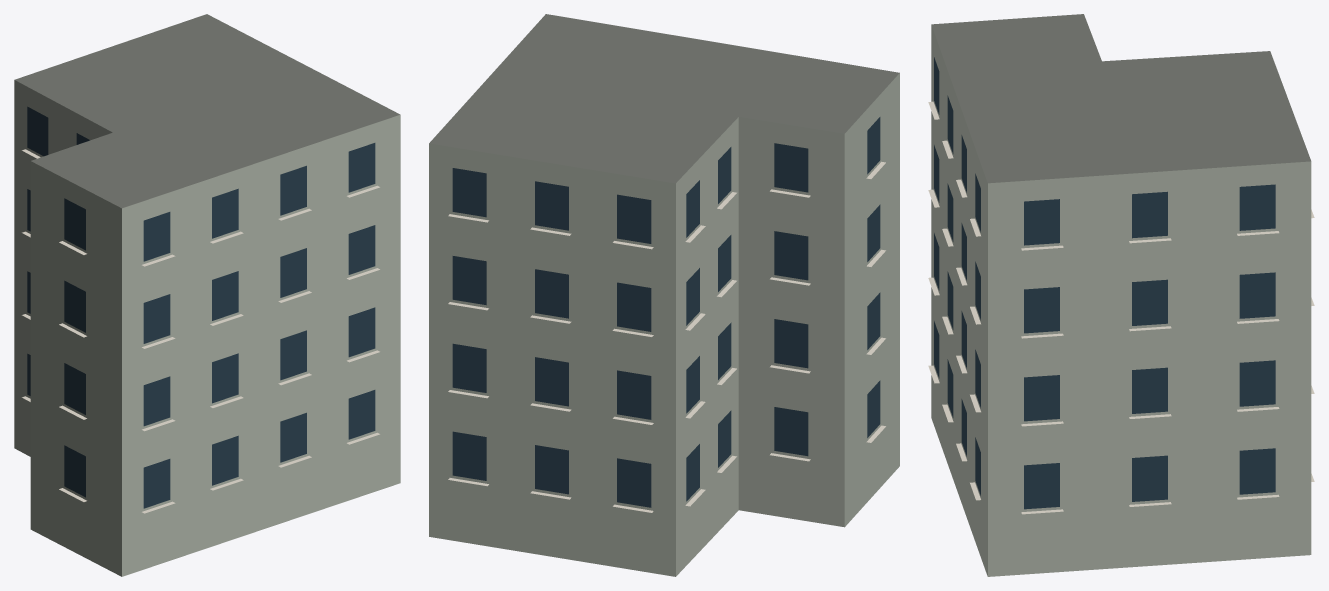
3 renders of one model, left to right at view 1: azimuth 30°, elevation 25°; view 2: azimuth 150°, elevation 25°; view 3: azimuth 270°, elevation 25°, orthographic. The views are drawn at different scales.
Parts seen in each view (by area): view 1: Footprint 0, Inferred window bays, Window sills; view 2: Footprint 0, Inferred window bays, Window sills; view 3: Footprint 0, Inferred window bays, Window sills.
Part boxes in pixels (<box>): Footprint 0: <box>14,14,400,576</box>; Inferred window bays: <box>27,106,375,508</box>; Window sills: <box>22,149,379,513</box>; Footprint 0: <box>429,14,899,576</box>; Inferred window bays: <box>452,117,880,507</box>; Window sills: <box>448,161,885,512</box>; Footprint 0: <box>931,14,1311,576</box>; Inferred window bays: <box>934,57,1275,509</box>; Window sills: <box>928,101,1314,514</box>.
Size of the model in its own units: 13.67 by 14.76 by 13.13.
